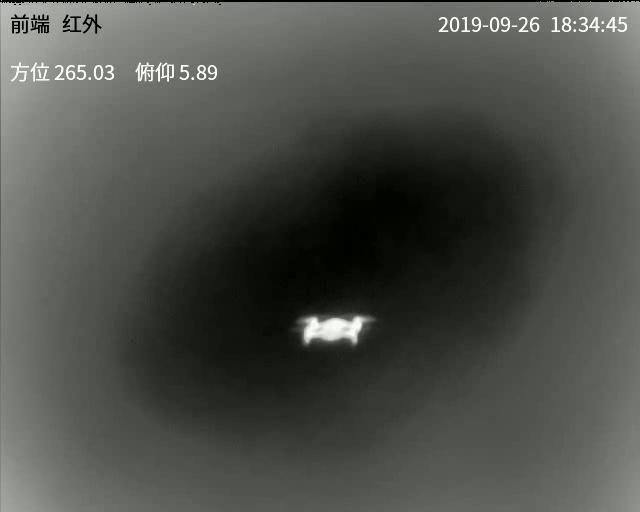DRONE: (297, 312, 372, 346)
